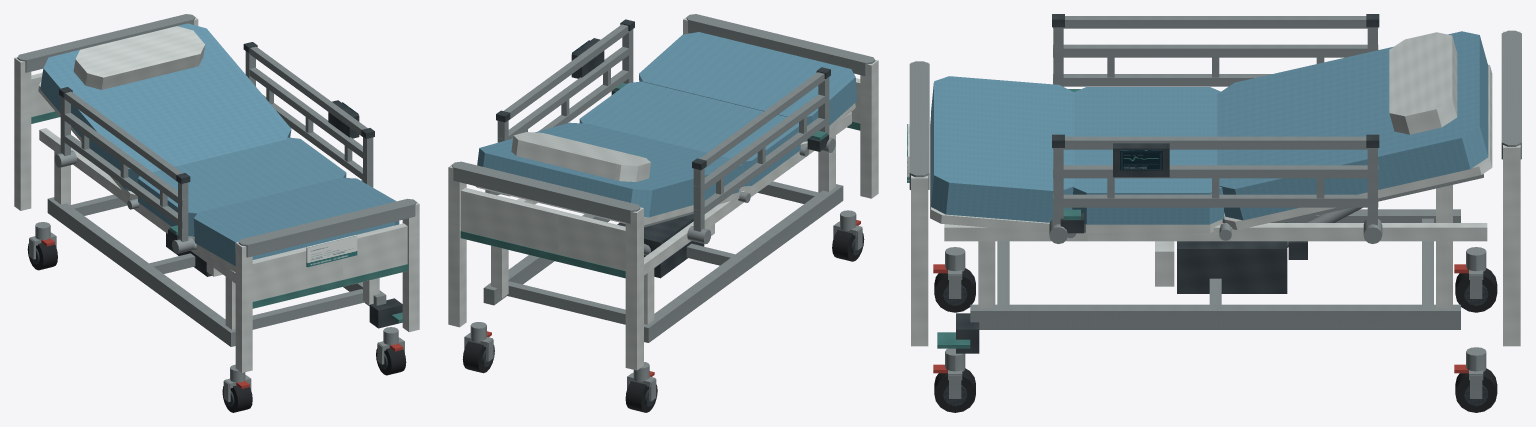
Rendered from PZ_LUCENT_H220_HospitalBed_COMPLETE.glb.
3 renders of one model, left to right at view 1: azimuth 30°, elevation 25°; view 2: azimuth 150°, elevation 25°; view 3: azimuth 270°, elevation 25°, orthographic. The views are drawn at different scales.
Parts seen in each view (by area): view 1: BED_Backrest_Mattress, BED_Vinyl_SeatCushion, BED_FootSection_Mattress, BED_FootBoard_FillPanel, BED_HeadPillow, BED_Chassis_LongBeam_L, BED_FootBoard_TopGrip, BED_HeadBoard_Post_L, BED_FootBoard_Post_L, BED_HeadBoard_TopGrip, BED_FootBoard_Post_R, BED_Deck_LongExtrusion_L (+22 smaller); view 2: BED_FootSection_Mattress, BED_Backrest_Mattress, BED_Vinyl_SeatCushion, BED_HeadBoard_FillPanel, BED_Chassis_LongBeam_L, BED_HeadBoard_TopGrip, BED_HeadPillow, BED_FootBoard_TopGrip, BED_HeadBoard_Post_L, BED_HeadBoard_Post_R, BED_FootBoard_Post_L, BED_Deck_LongExtrusion_L (+23 smaller); view 3: BED_Backrest_Mattress, BED_FootSection_Mattress, BED_Vinyl_SeatCushion, BED_Chassis_LongBeam_R, BED_Deck_LongExtrusion_R, BED_HeadPillow, BED_ElectricLiftMotor_Housing, BED_LEFT_SideRail_MidTube, BED_RIGHT_SideRail_LowerTube, BED_LEFT_SideRail_TopTube, BED_RIGHT_SideRail_TopTube, BED_RIGHT_SideRail_MidTube (+26 smaller).
Boxes of the visible parts, bbox=[...] form: BED_Backrest_Mattress: bbox=[40, 23, 291, 191]; BED_Vinyl_SeatCushion: bbox=[138, 137, 346, 236]; BED_FootSection_Mattress: bbox=[193, 177, 399, 265]; BED_FootBoard_FillPanel: bbox=[252, 223, 407, 307]; BED_HeadPillow: bbox=[73, 26, 204, 89]; BED_Chassis_LongBeam_L: bbox=[47, 197, 235, 346]; BED_FootBoard_TopGrip: bbox=[238, 198, 416, 257]; BED_HeadBoard_Post_L: bbox=[14, 57, 31, 210]; BED_FootBoard_Post_L: bbox=[235, 242, 252, 372]; BED_HeadBoard_TopGrip: bbox=[17, 14, 195, 72]; BED_FootBoard_Post_R: bbox=[402, 202, 419, 332]; BED_Deck_LongExtrusion_L: bbox=[39, 128, 235, 283]; BED_FootSection_Mattress: bbox=[639, 32, 856, 141]; BED_Backrest_Mattress: bbox=[477, 122, 742, 217]; BED_Vinyl_SeatCushion: bbox=[579, 81, 800, 186]; BED_HeadBoard_FillPanel: bbox=[461, 187, 625, 278]; BED_Chassis_LongBeam_L: bbox=[644, 184, 843, 342]; BED_HeadBoard_TopGrip: bbox=[451, 161, 640, 223]; BED_HeadPillow: bbox=[511, 132, 650, 181]; BED_FootBoard_TopGrip: bbox=[686, 14, 875, 76]; BED_HeadBoard_Post_L: bbox=[625, 207, 643, 370]; BED_HeadBoard_Post_R: bbox=[448, 165, 466, 327]; BED_FootBoard_Post_L: bbox=[860, 59, 878, 198]; BED_Deck_LongExtrusion_L: bbox=[644, 112, 851, 275]; BED_Backrest_Mattress: bbox=[1217, 31, 1488, 220]; BED_FootSection_Mattress: bbox=[931, 76, 1074, 222]; BED_Vinyl_SeatCushion: bbox=[1072, 87, 1223, 224]; BED_Chassis_LongBeam_R: bbox=[970, 304, 1460, 329]; BED_Deck_LongExtrusion_R: bbox=[944, 223, 1487, 241]; BED_HeadPillow: bbox=[1389, 32, 1457, 134]; BED_ElectricLiftMotor_Housing: bbox=[1177, 218, 1287, 293]; BED_LEFT_SideRail_MidTube: bbox=[1053, 44, 1378, 57]; BED_RIGHT_SideRail_LowerTube: bbox=[1053, 194, 1378, 207]; BED_LEFT_SideRail_TopTube: bbox=[1053, 16, 1378, 28]; BED_RIGHT_SideRail_TopTube: bbox=[1053, 136, 1378, 149]; BED_RIGHT_SideRail_MidTube: bbox=[1053, 165, 1378, 178].
Size of the model in its own units: 1.16 by 1.16 by 2.23.
9 materials, 9 textured.
